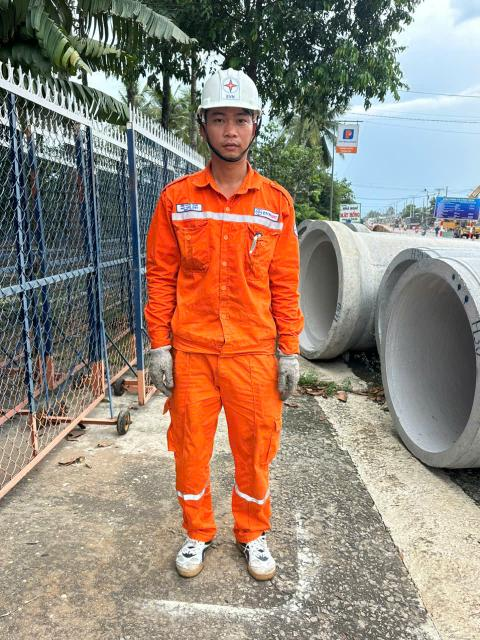gloves: (261, 338, 308, 403), (134, 348, 191, 397)
helmet: (194, 61, 291, 126)
shoes: (134, 513, 215, 582), (224, 519, 294, 583)
